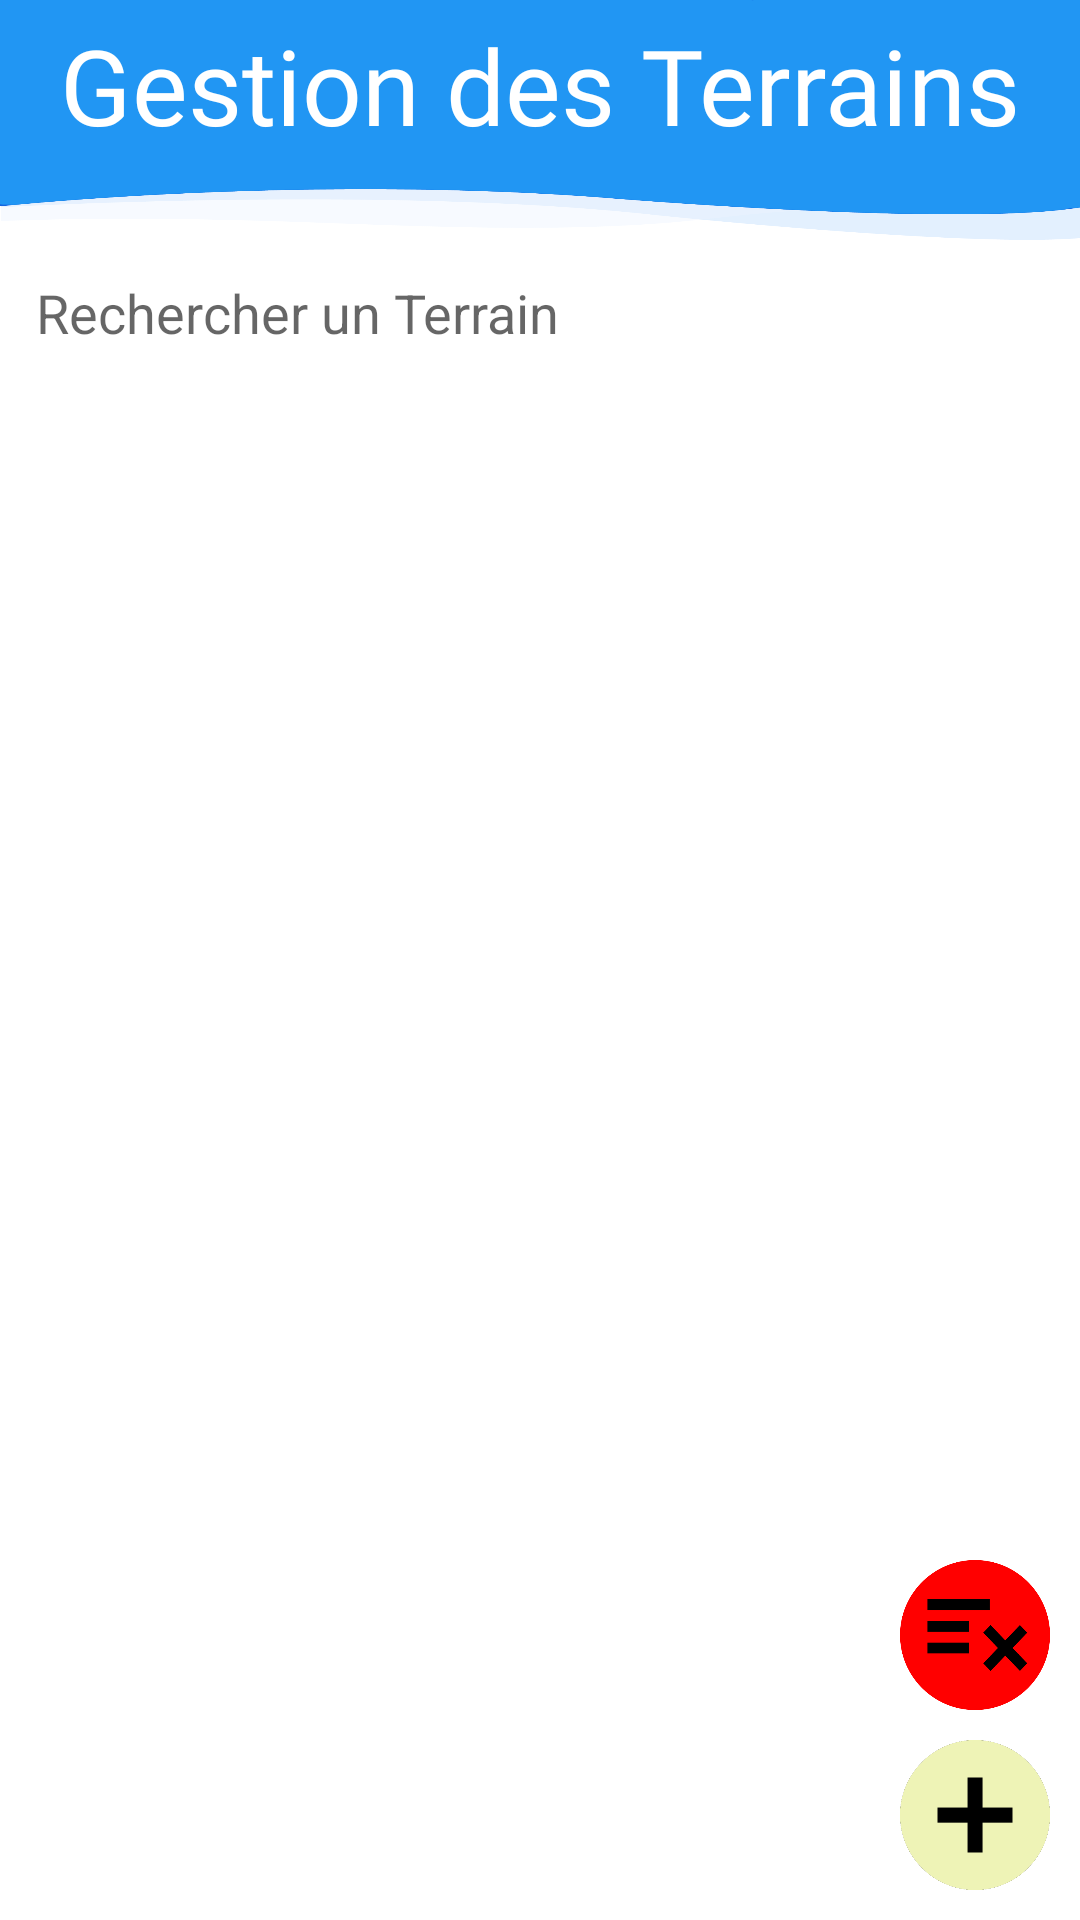

Where icons sit on this 1080px×1920px app screen, as (x1, y1, x2, y2):
addbtn: (900, 1740, 1050, 1890)
rmvall: (900, 1560, 1050, 1710)
